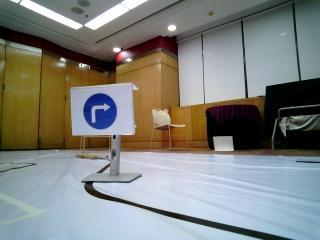right: (67, 84, 133, 132)
